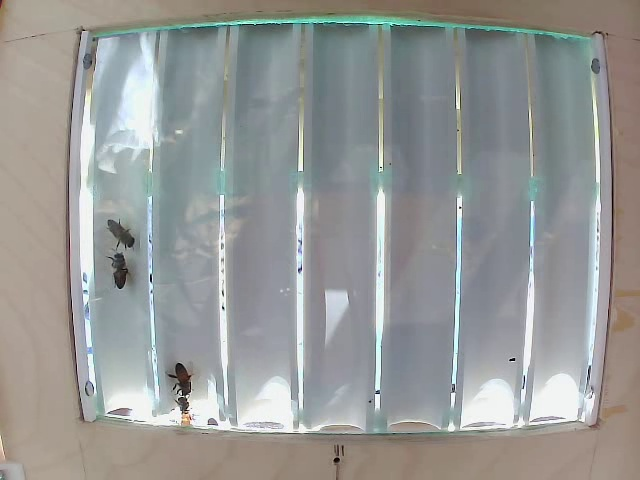bee: (110, 215, 147, 259), (166, 360, 199, 400), (105, 251, 137, 289)
